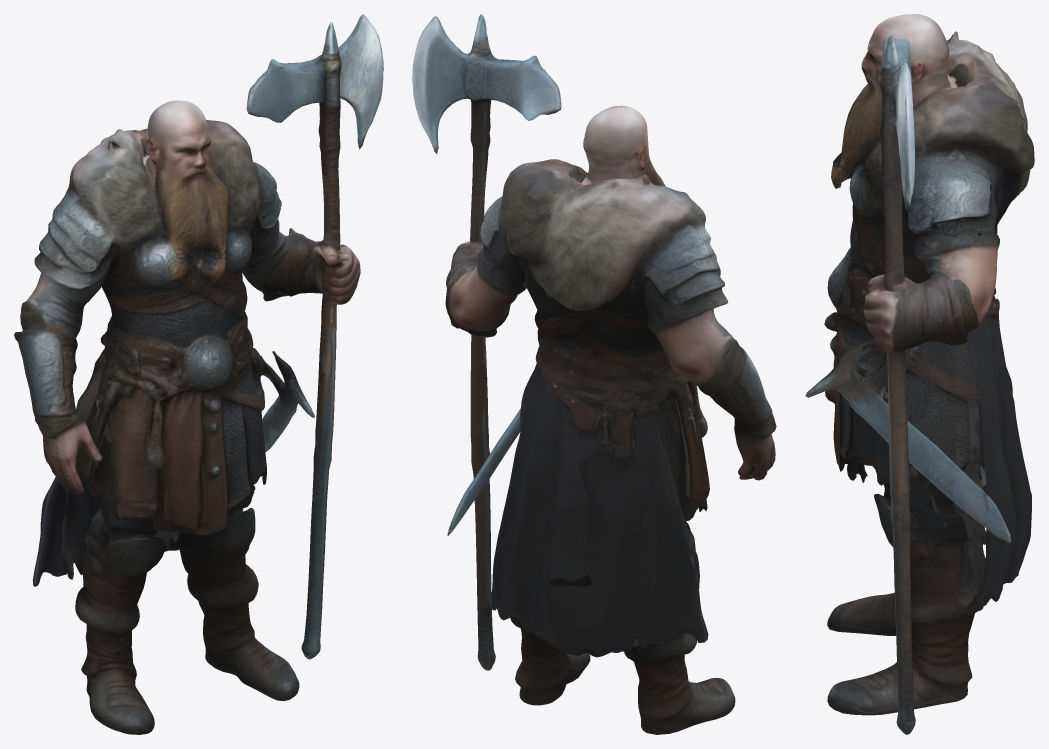
Rendered from npc2.glb.
3 views of the same model, side by side, from view 1: azimuth 30°, elevation 25°; view 2: azimuth 150°, elevation 25°; view 3: azimuth 270°, elevation 25° (orthographic). The views are drawn at different scales.
Parts seen in each view (by area): view 1: Mesh_0_Material_0_0; view 2: Mesh_0_Material_0_0; view 3: Mesh_0_Material_0_0.
Boxes of the visible parts, <box> form: Mesh_0_Material_0_0: <box>14,14,383,734</box>; Mesh_0_Material_0_0: <box>412,14,776,734</box>; Mesh_0_Material_0_0: <box>805,14,1034,734</box>.
Size of the model in its own units: 1.14 by 2 by 0.5854.
Materials: 1 (1 with a texture image).
